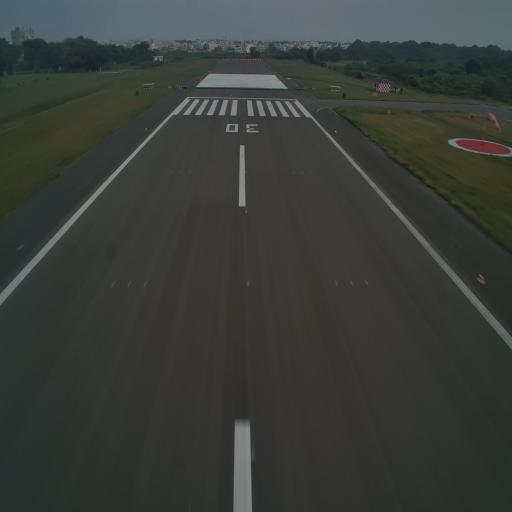off: (362, 277, 372, 289), (126, 278, 134, 292), (16, 242, 26, 252), (332, 277, 339, 291), (110, 279, 117, 291), (142, 279, 147, 291), (348, 278, 354, 288)
on: (475, 271, 486, 287), (244, 277, 252, 288), (244, 206, 248, 216)
